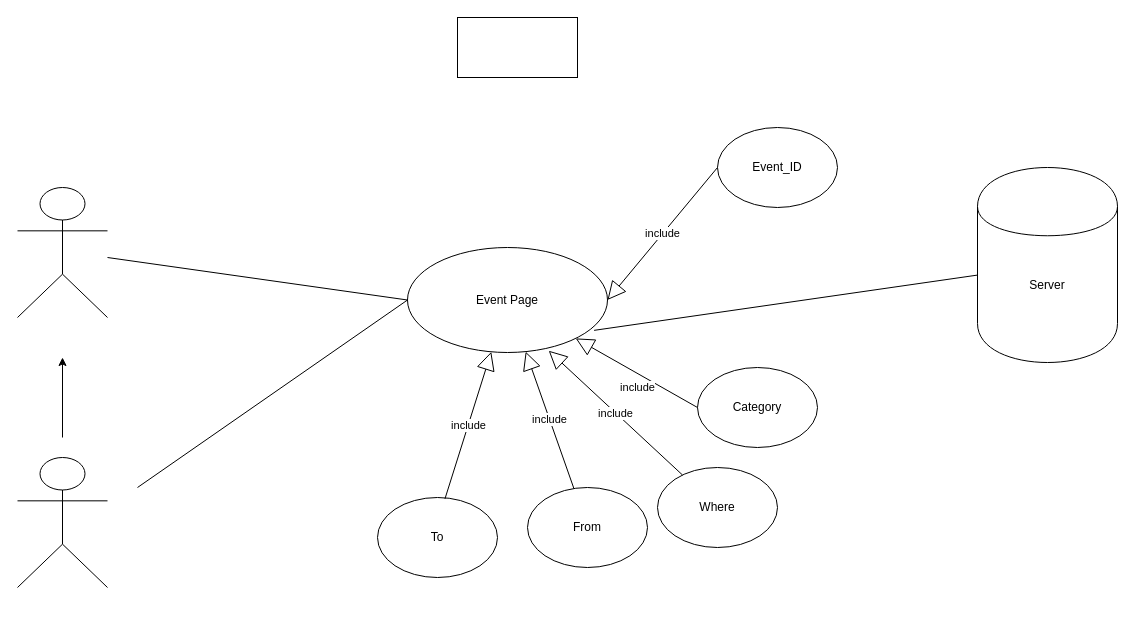
Some shapes in this 1135 by 626 pixel diagram are drawn without their labels. Each missing label, with the box of its shape:
Show Events: (456, 16, 578, 78)
User: (16, 456, 108, 588)
Visitor: (16, 186, 108, 318)
